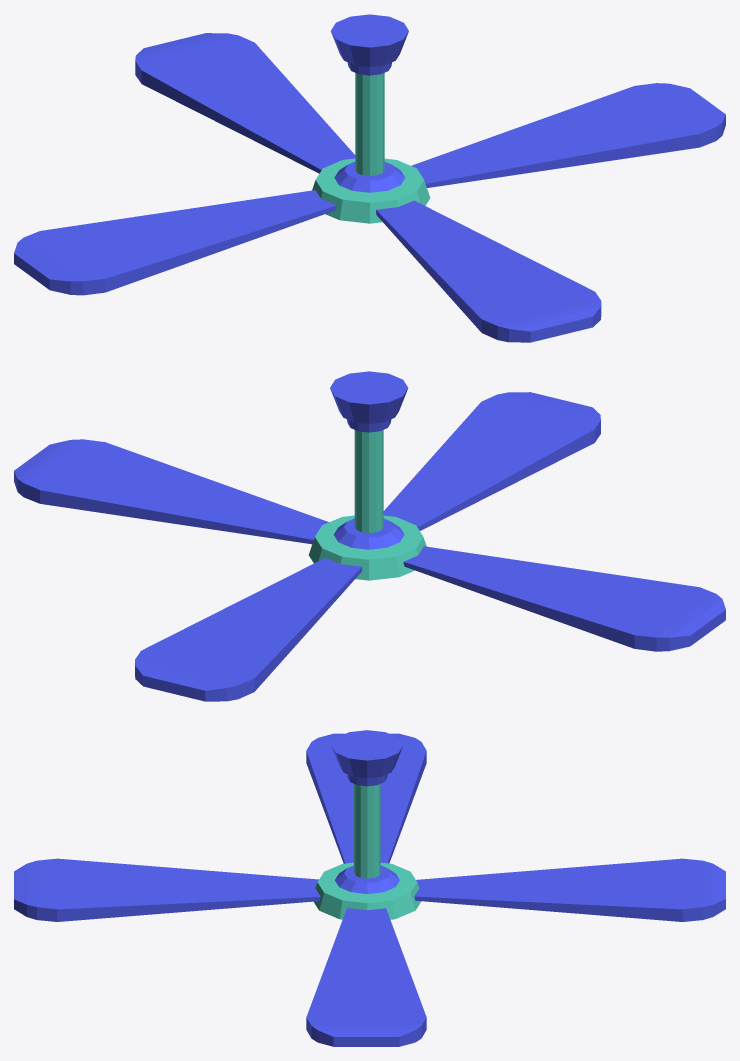
The model's file is ceiling-fan.fbx.
The picture shows the model from 3 angles, top to bottom: view 1: azimuth 30°, elevation 25°; view 2: azimuth 150°, elevation 25°; view 3: azimuth 270°, elevation 25°; orthographic projection. The views are drawn at different scales.
Visible parts, largest first — view 1: Cube, Cube.003, Cube.002, Cube.004, Cube.001; view 2: Cube, Cube.003, Cube.004, Cube.002, Cube.001; view 3: Cube.004, Cube.002, Cube.003, Cube.001, Cube.
Boxes of the visible parts, left/top/right/bottom form: Cube: left=14, top=190, right=336, bottom=295; Cube.003: left=411, top=83, right=725, bottom=187; Cube.002: left=376, top=200, right=601, bottom=342; Cube.004: left=135, top=33, right=355, bottom=173; Cube.001: left=312, top=14, right=430, bottom=223; Cube: left=403, top=546, right=725, bottom=651; Cube.003: left=14, top=439, right=328, bottom=544; Cube.004: left=135, top=558, right=362, bottom=701; Cube.002: left=383, top=392, right=600, bottom=530; Cube.001: left=308, top=371, right=426, bottom=580; Cube.004: left=414, top=858, right=725, bottom=921; Cube.002: left=14, top=858, right=320, bottom=921; Cube.003: left=306, top=908, right=426, bottom=1046; Cube.001: left=314, top=730, right=421, bottom=919; Cube: left=306, top=733, right=426, bottom=863.
Bounding box in the file's own units: 440 × 112 × 437.
